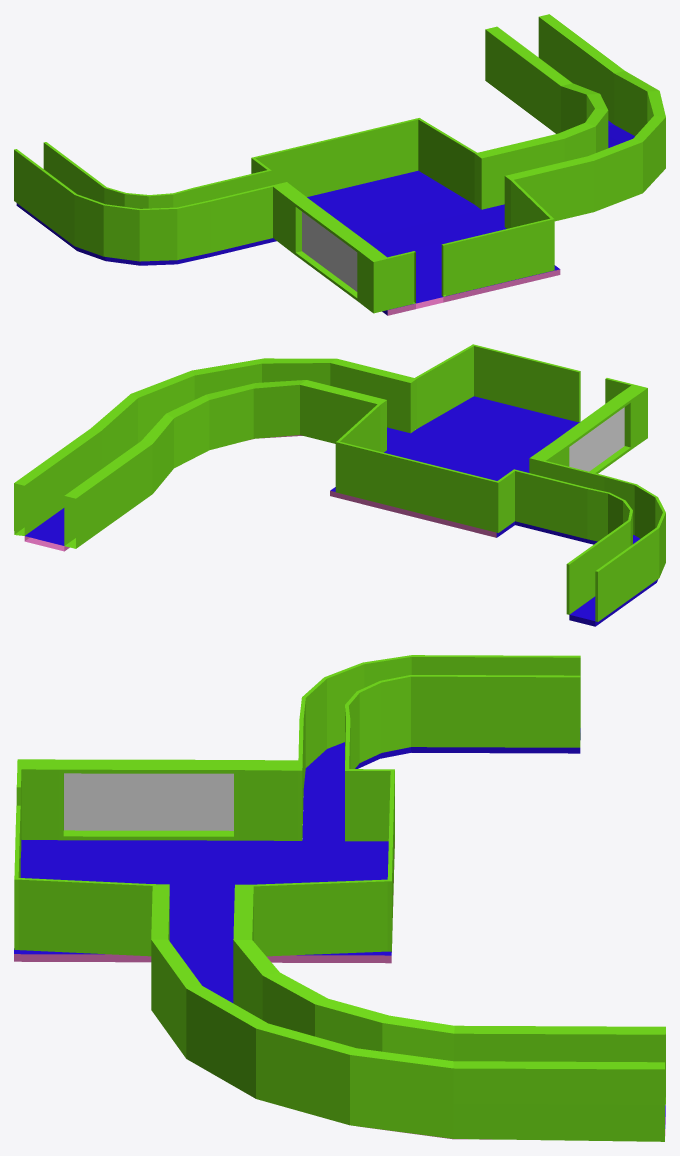
Rendered from Level2Office.fbx.
The picture shows the model from 3 angles, top to bottom: view 1: azimuth 30°, elevation 25°; view 2: azimuth 150°, elevation 25°; view 3: azimuth 270°, elevation 25°; orthographic projection. The views are drawn at different scales.
Parts seen in each view (by area): view 1: Cube.001; view 2: Cube.001; view 3: Cube.001.
Boxes of the visible parts, <box> form: Cube.001: <box>14,14,665,315</box>; Cube.001: <box>14,344,665,626</box>; Cube.001: <box>14,655,665,1141</box>.
Size of the model in its own units: 2126 by 294 by 1542.
